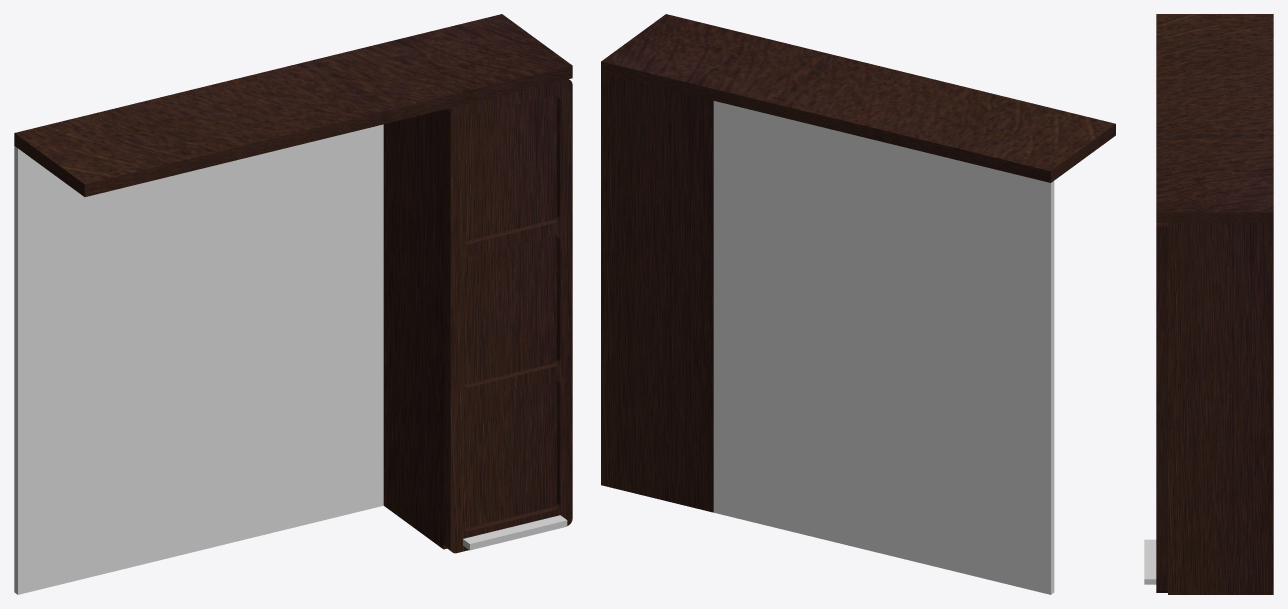
The model's file is sweethome3d-lucapresidente-mirror-cabinet.glb.
3 views of the same model, side by side, from view 1: azimuth 30°, elevation 25°; view 2: azimuth 150°, elevation 25°; view 3: azimuth 270°, elevation 25° (orthographic). The views are drawn at different scales.
Visible parts, largest first — view 1: sweethome3d_window_mirror, Box08_1, Box05_7, Box07_10, Rectangle05_8, Box06_6; view 2: sweethome3d_window_mirror, Box07_10, Box08_1; view 3: Box07_10, Box08_1, Rectangle05_8, Box06_6.
Boxes of the visible parts, box(x1,y1,x2,y2) form: sweethome3d_window_mirror: box(14, 124, 383, 594); Box08_1: box(14, 14, 572, 196); Box05_7: box(463, 95, 556, 528); Box07_10: box(383, 110, 446, 549); Rectangle05_8: box(443, 79, 572, 553); Box06_6: box(463, 515, 567, 550); sweethome3d_window_mirror: box(713, 101, 1054, 594); Box07_10: box(601, 73, 713, 512); Box08_1: box(601, 14, 1115, 182); Box07_10: box(1168, 223, 1273, 594); Box08_1: box(1156, 14, 1273, 222); Rectangle05_8: box(1156, 223, 1167, 592); Box06_6: box(1144, 539, 1156, 584).
Size of the model in its own units: 80 by 72 by 22.
4 materials, 1 textured.
